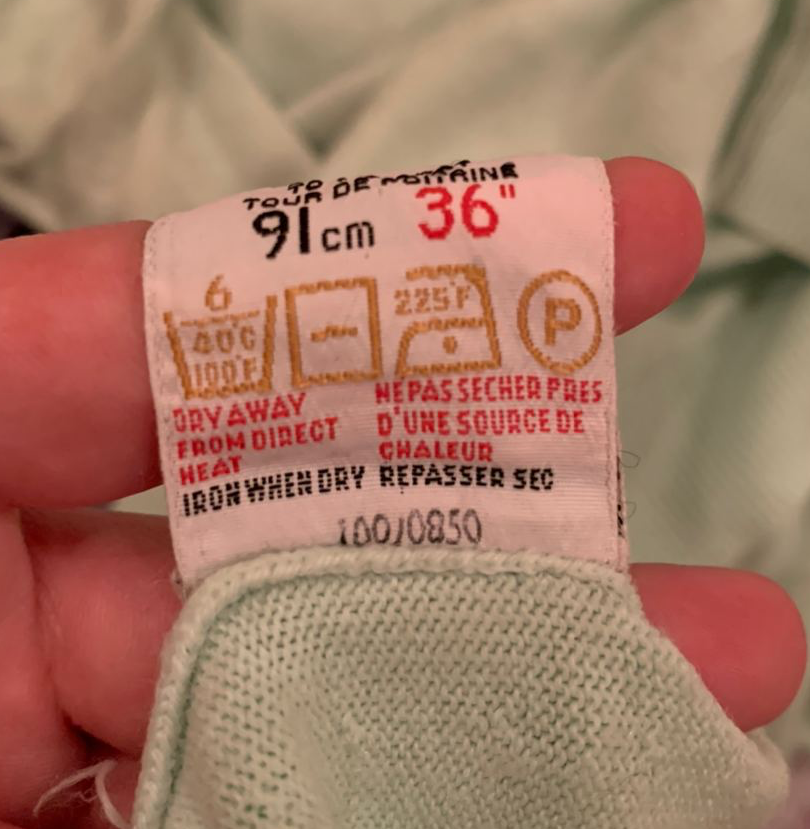dry_clean_tetrachloroethylene_pce_only: (513, 267, 603, 374)
dry_flat: (285, 270, 385, 393)
